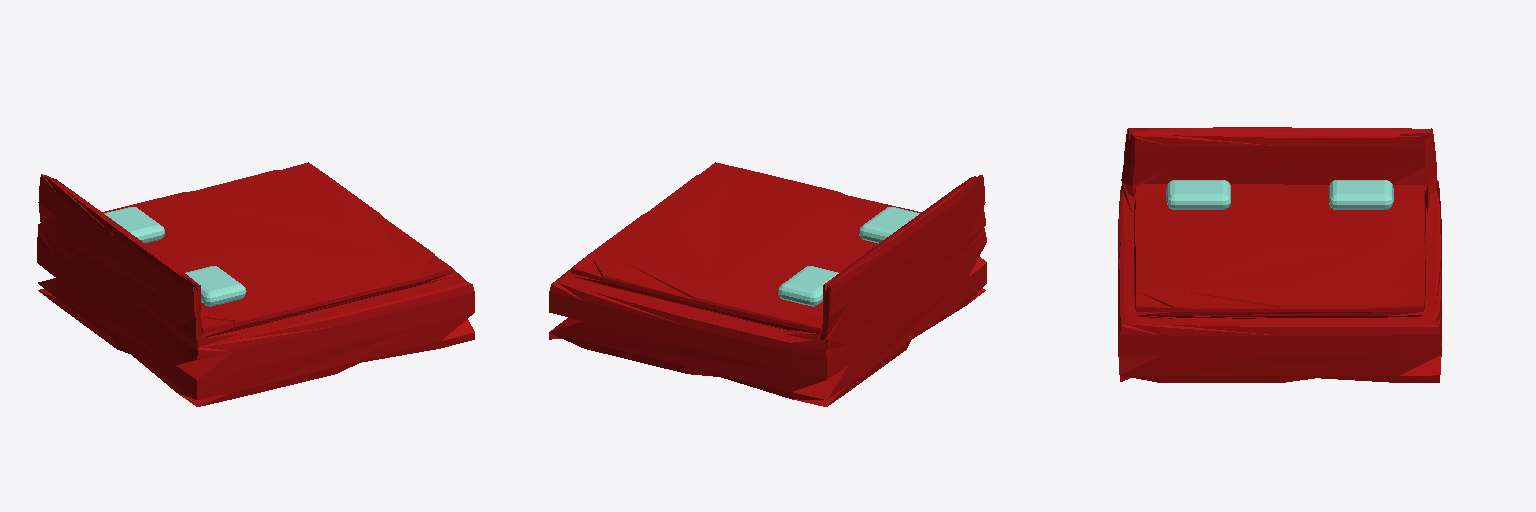
File: bed_001.obj
3 views of the same model, side by side, from view 1: azimuth 30°, elevation 25°; view 2: azimuth 150°, elevation 25°; view 3: azimuth 270°, elevation 25° (orthographic).
Visible parts, largest first — view 1: Box001, ChamferBox002, ChamferBox001; view 2: Box001, ChamferBox001, ChamferBox002; view 3: Box001, ChamferBox001, ChamferBox002.
Boxes of the visible parts, box(x1,y1,x2,y2) form: Box001: box(37, 162, 474, 406); ChamferBox002: box(185, 266, 246, 306); ChamferBox001: box(104, 207, 164, 243); Box001: box(549, 162, 986, 406); ChamferBox001: box(777, 266, 838, 306); ChamferBox002: box(859, 207, 919, 243); Box001: box(1118, 127, 1441, 382); ChamferBox001: box(1329, 180, 1393, 209); ChamferBox002: box(1166, 180, 1230, 209).
Bounding box in the file's own units: 100 × 41.42 × 100.